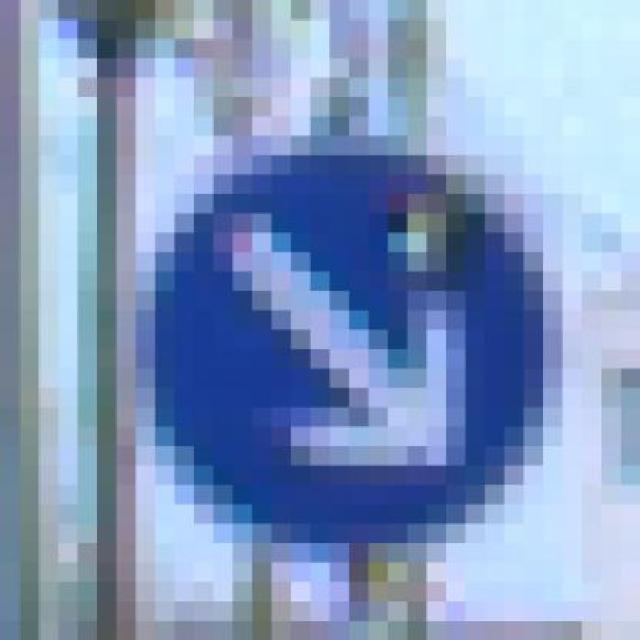Keep-Right: (116, 135, 582, 563)
